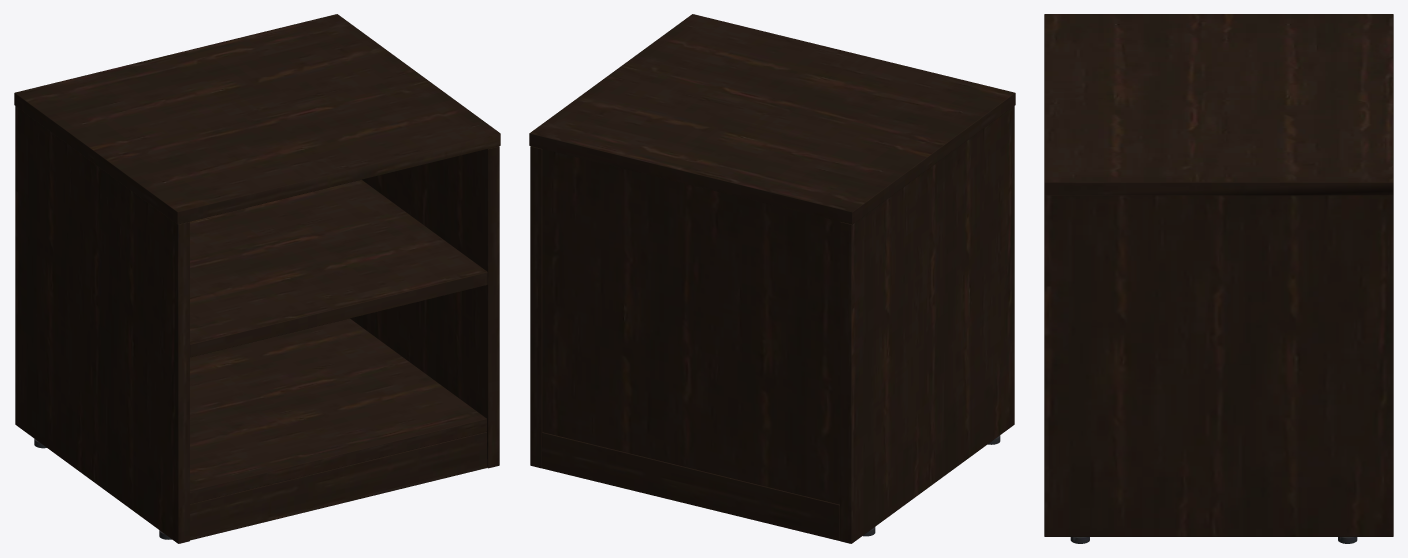
3 renders of one model, left to right at view 1: azimuth 30°, elevation 25°; view 2: azimuth 150°, elevation 25°; view 3: azimuth 270°, elevation 25°, orthographic. The views are drawn at different scales.
Visible parts, largest first — view 1: RootNode; view 2: RootNode; view 3: RootNode.
Part boxes in pixels (x1,y1,x2,y2): RootNode: (14,14,500,543); RootNode: (529,14,1015,543); RootNode: (1044,14,1393,543).
Bounding box in the file's own units: 0.4892 × 0.4874 × 0.4267.
Materials: 1 (1 with a texture image).
